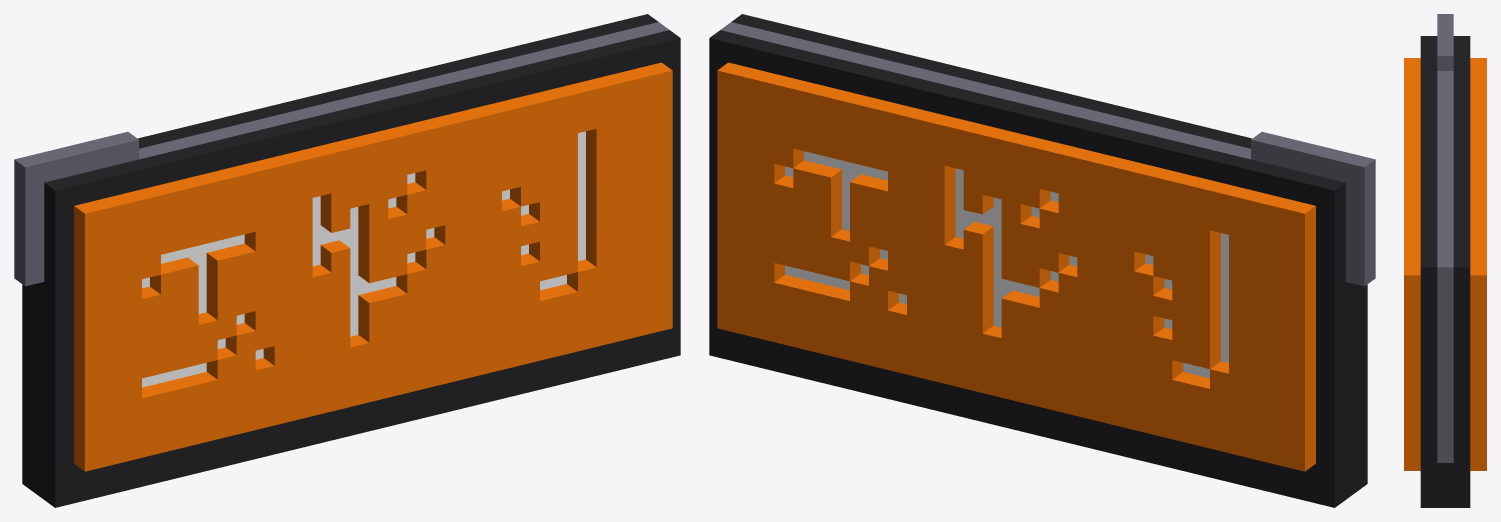
File: Signborad_009.obj
3 views of the same model, side by side, from view 1: azimuth 30°, elevation 25°; view 2: azimuth 150°, elevation 25°; view 3: azimuth 270°, elevation 25° (orthographic). The views are drawn at different scales.
Bounding box in the file's own units: 3.4 × 1.7 × 0.5.
1 material, 1 textured.
